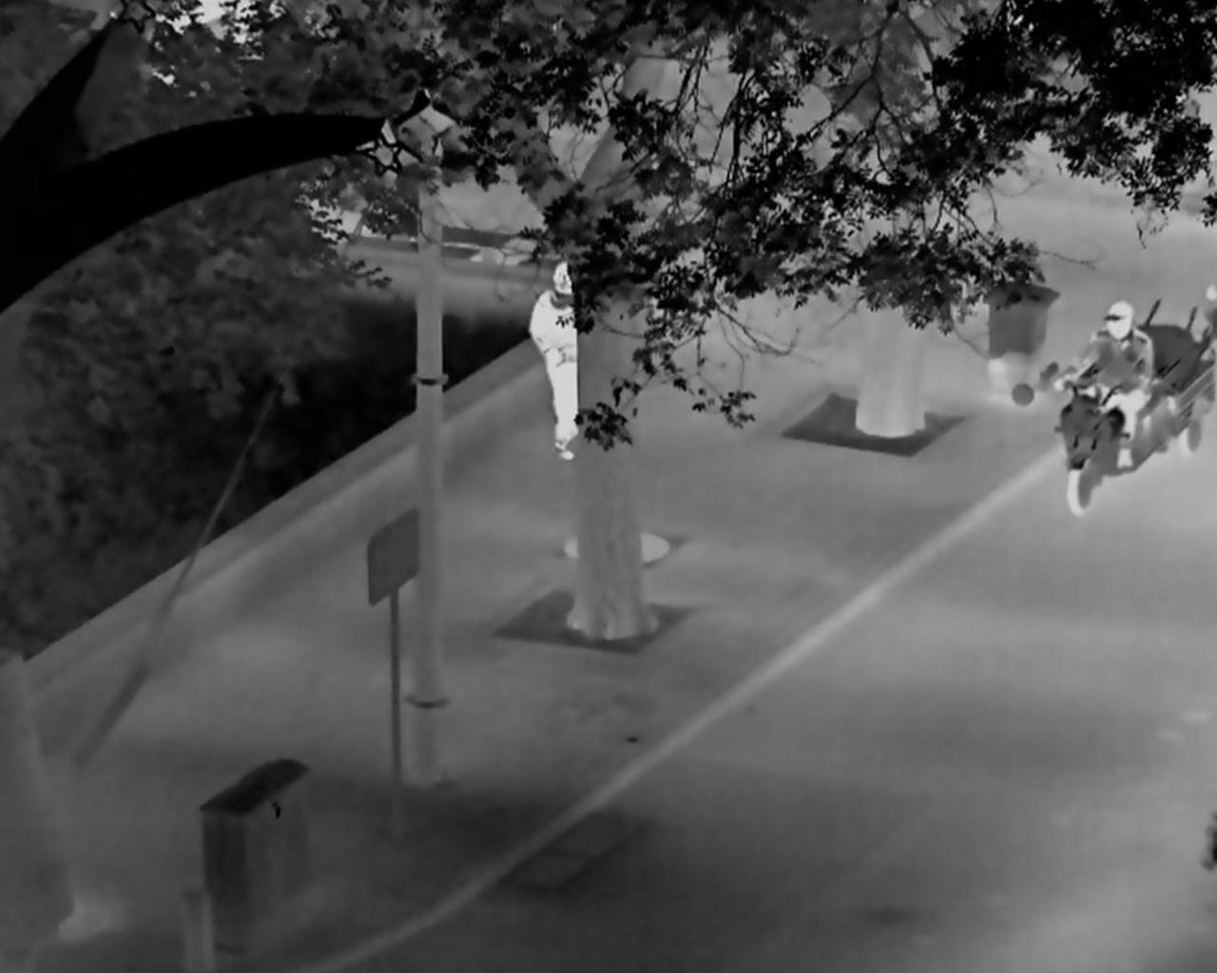person: (1053, 300, 1151, 470), (527, 260, 580, 462)
